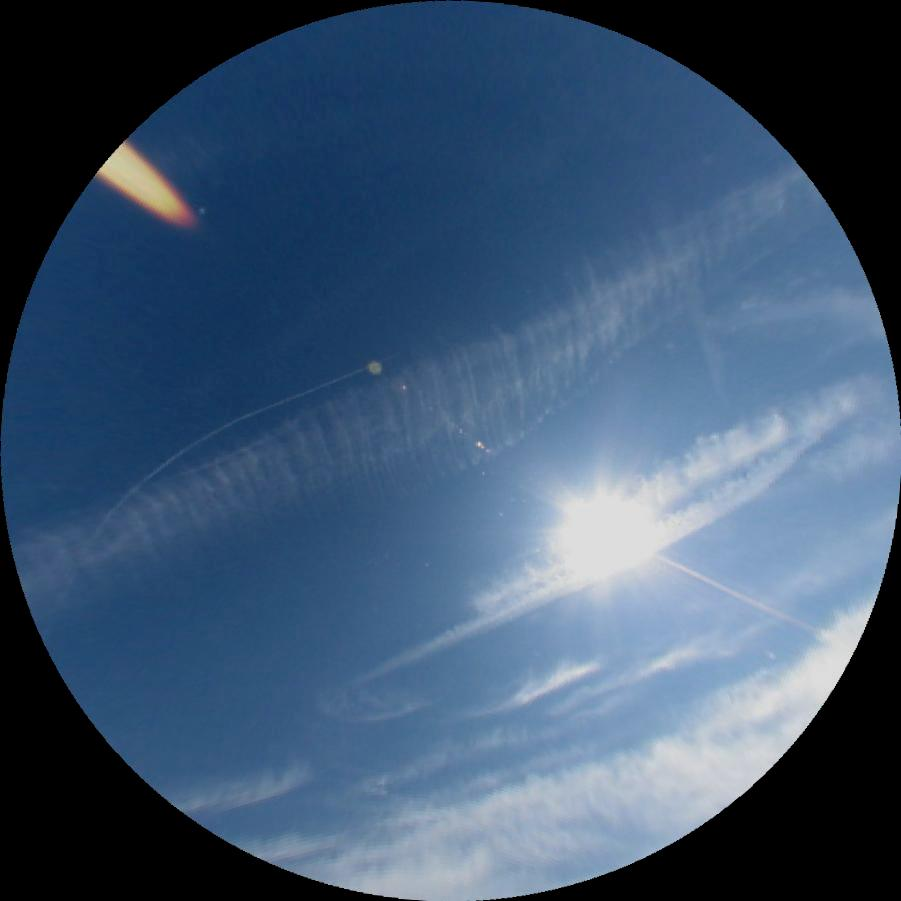contrail veryold: (0, 150, 864, 664), (352, 357, 900, 727), (459, 398, 796, 619), (703, 295, 883, 347), (681, 283, 735, 400)
contrail young: (77, 321, 405, 540)
parasite: (645, 549, 819, 635)
sun: (558, 499, 653, 567)
